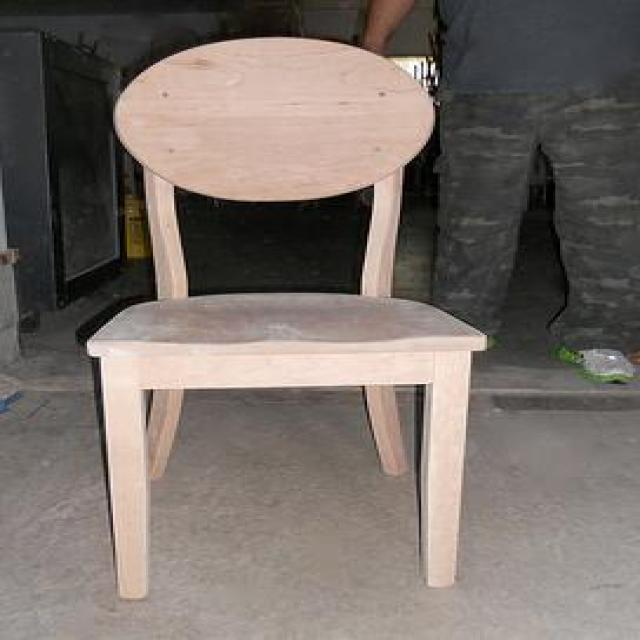chair: (86, 36, 487, 602)
